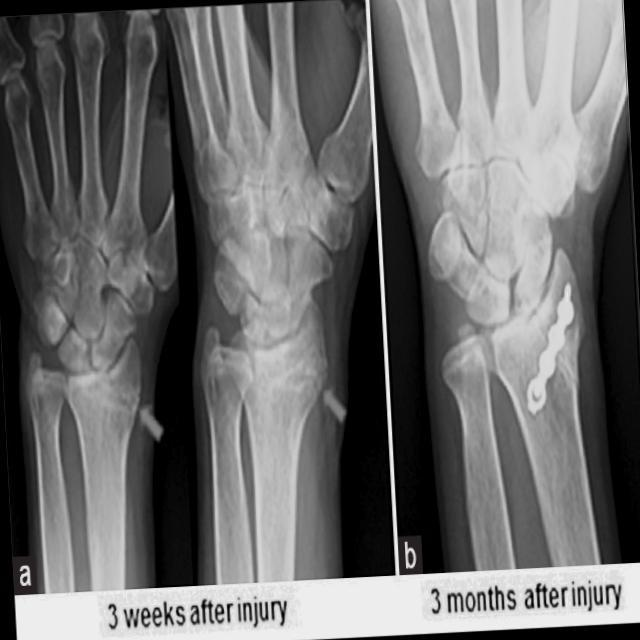Intra-articular fracture: (279, 346, 327, 409)
